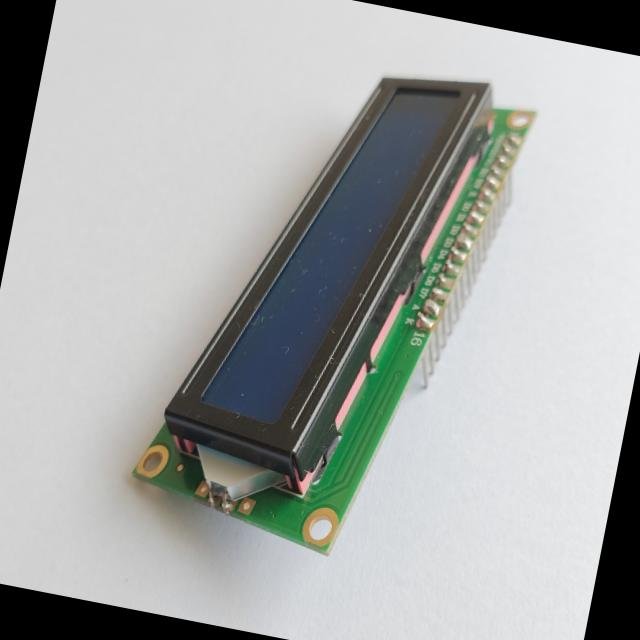lcd: (110, 22, 548, 600)
